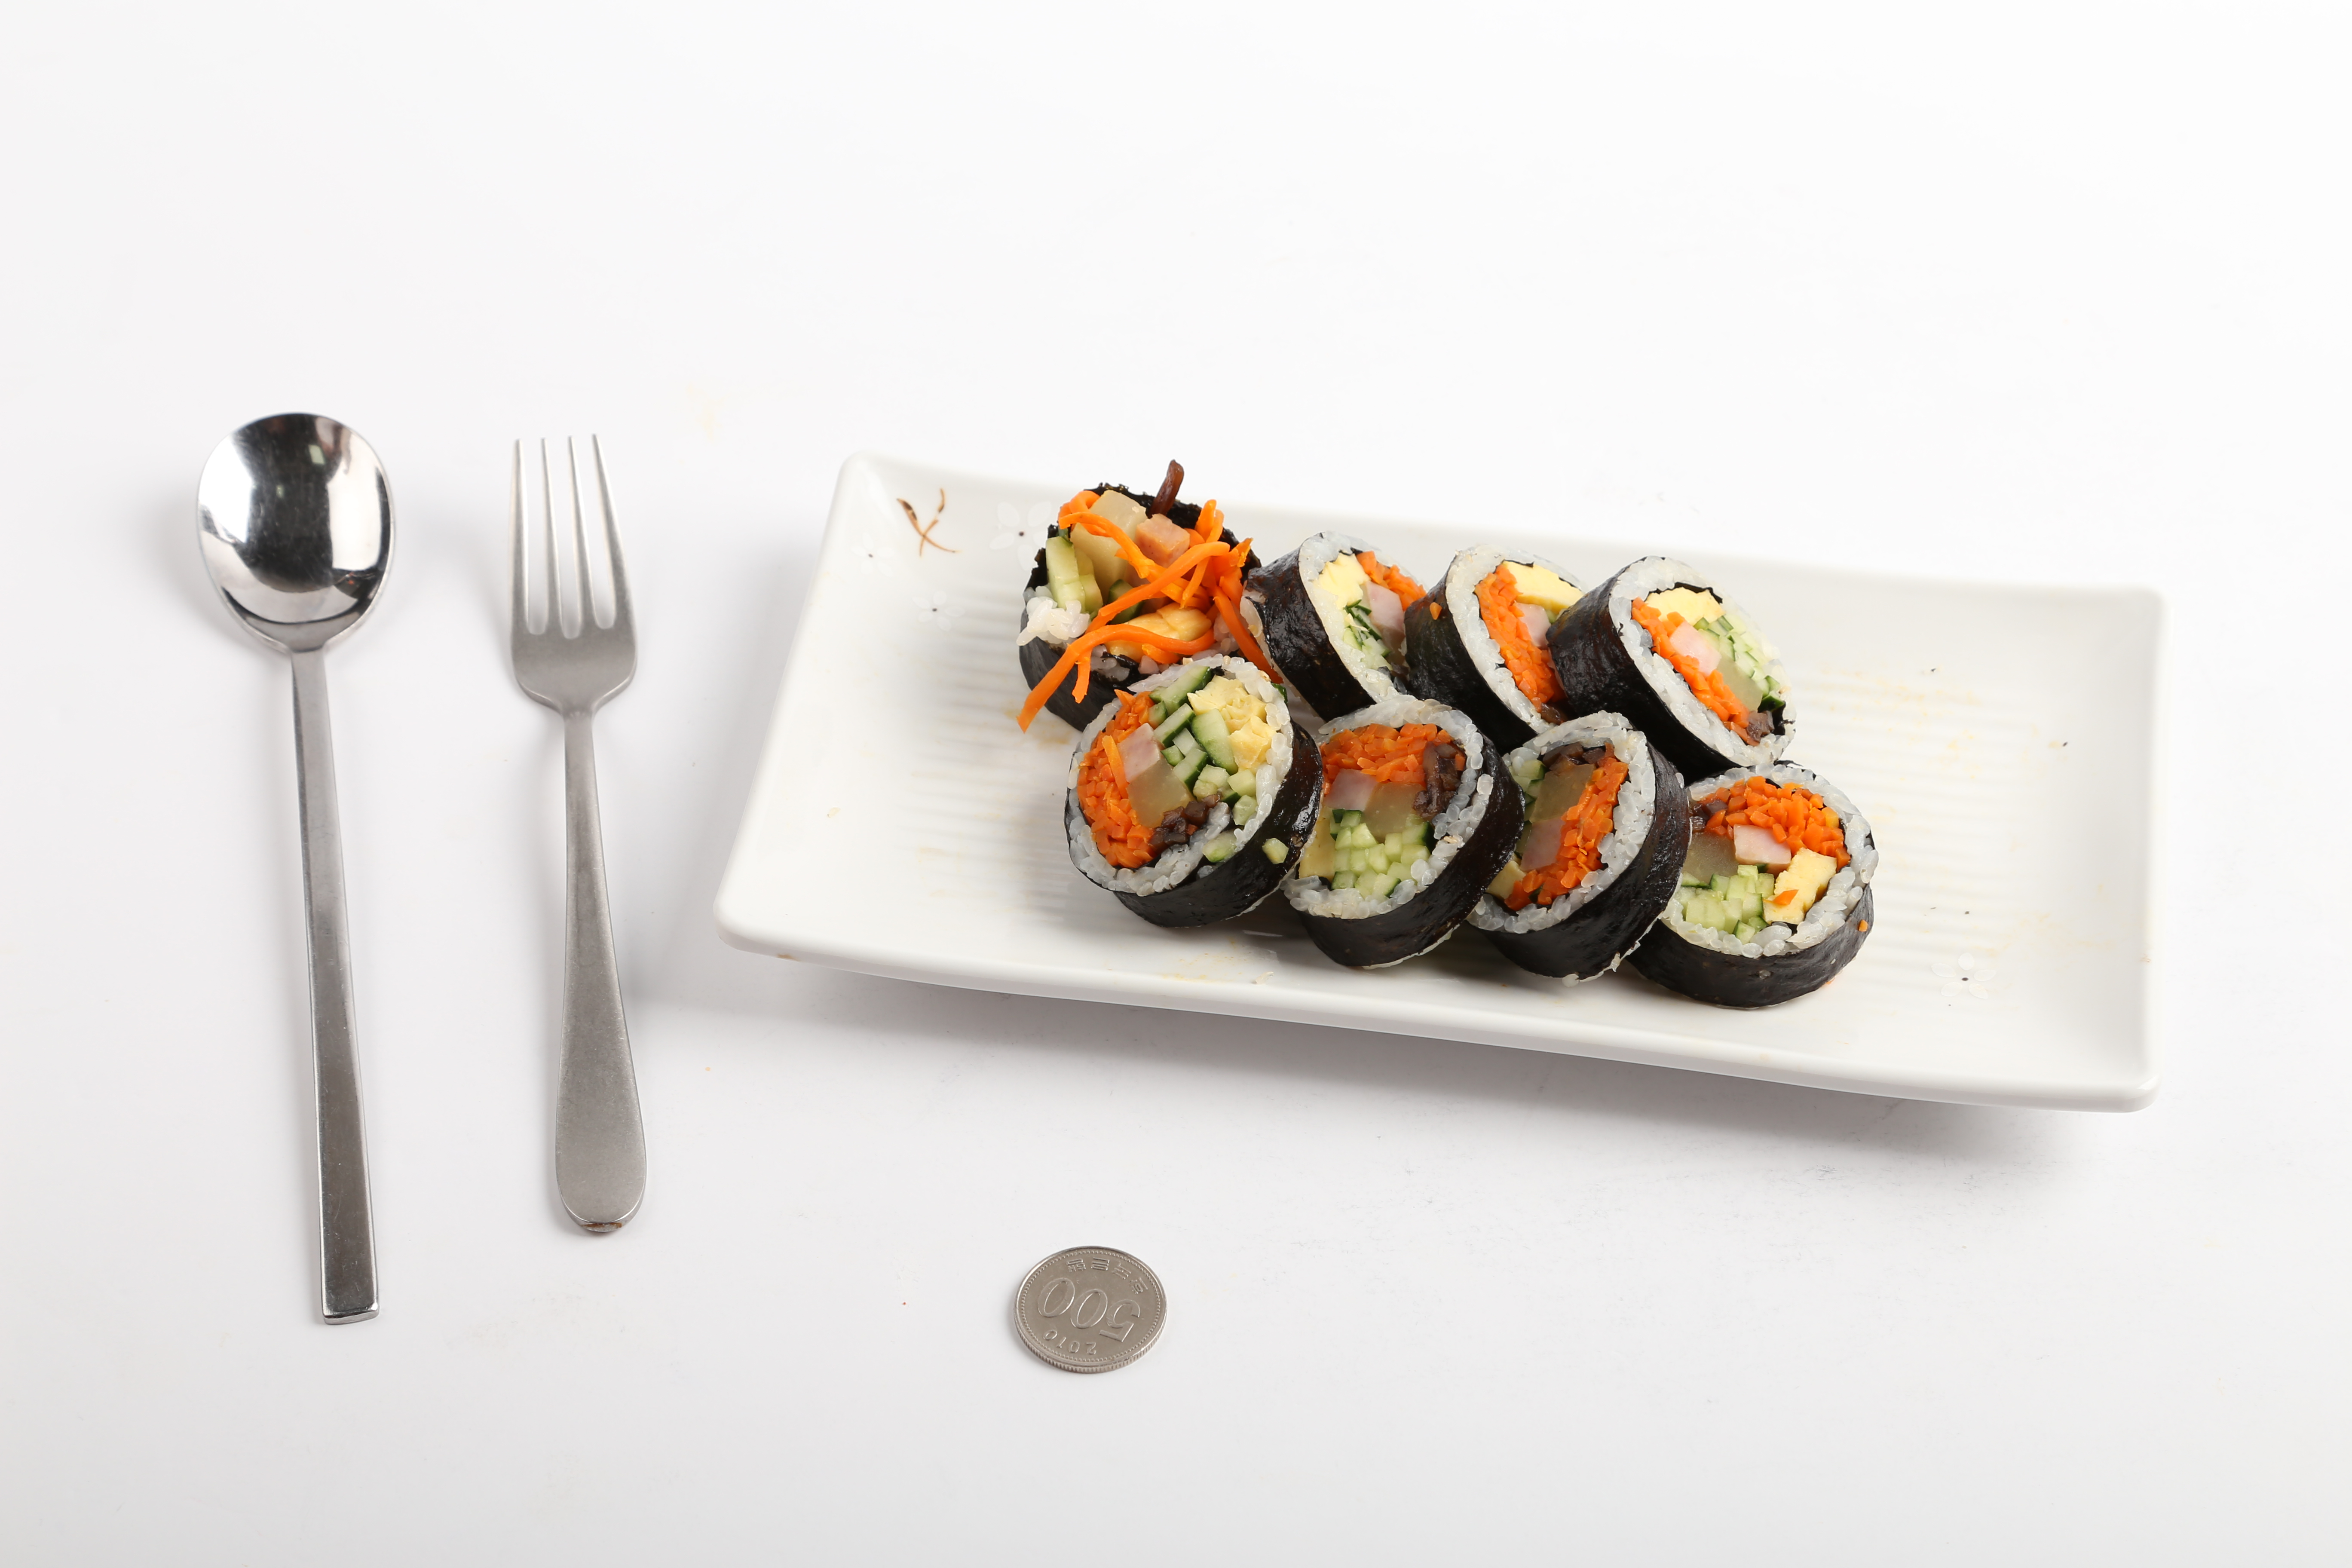dish: (707, 446, 2166, 1127)
ref_coin: (1006, 1237, 1165, 1382)
ref_fork: (502, 434, 640, 759)
ref_spoon: (189, 399, 397, 705)
김밥: (1004, 483, 1886, 1022)
